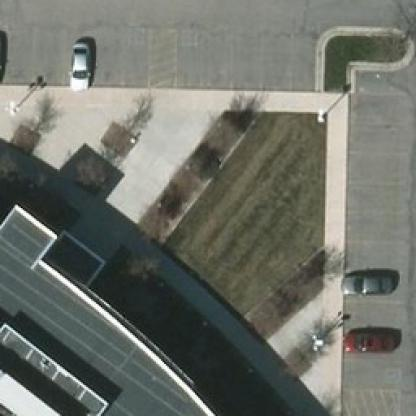car: (343, 268, 398, 296), (66, 39, 92, 91), (344, 330, 396, 356)
